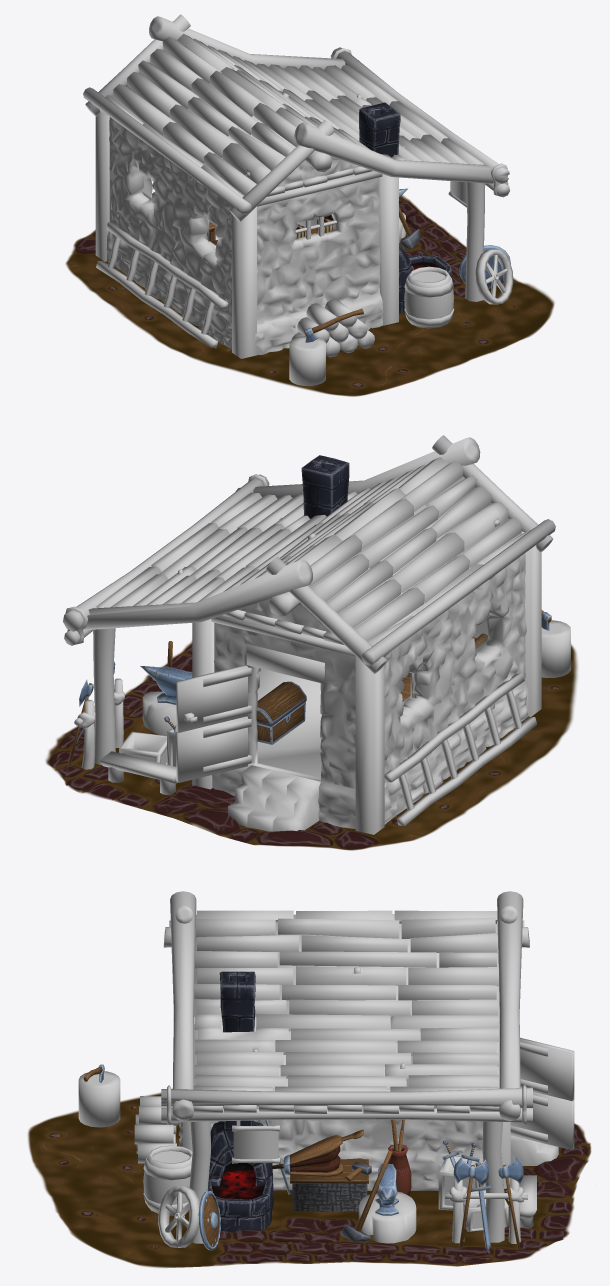
3 views of the same model, one above another, from view 1: azimuth 30°, elevation 25°; view 2: azimuth 150°, elevation 25°; view 3: azimuth 270°, elevation 25° (orthographic). The views are drawn at different scales.
Parts seen in each view (by area): view 1: Wall_low, Roof_low, Ground_high, RoofSupport_low, RoofSupport3_low, Forge_low, RoofSupport6_low, Ladder_low, RoofSupport9_low, Barrel_low, RoofSupport2_low, RoofSupport4_low (+6 smaller); view 2: Wall_low, Roof_low, Ground_high, RoofSupport_low, RoofSupport3_low, Stairs_low, Ladder_low, RoofSupport6_low, RoofSupport9_low, Door1_low, Door2_low, RoofSupport2_low (+13 smaller); view 3: Roof_low, Ground_high, Wall_low, RoofSupport3_low, Forge_low, RoofSupport4_low, RoofSupport2_low, RoofSupport5_low, Planks_low, Door1_low, StumpWoodcutter_low, WorkbenchStone_low (+21 smaller).
Boxes of the visible parts, x1,y1,x2,y2 form: Wall_low: (106, 47, 383, 354); Roof_low: (99, 33, 483, 197); Ground_high: (65, 195, 554, 396); RoofSupport_low: (95, 111, 398, 358); RoofSupport3_low: (149, 16, 493, 183); Forge_low: (359, 102, 452, 313); RoofSupport6_low: (85, 14, 334, 221); Ladder_low: (96, 222, 228, 348); RoofSupport9_low: (83, 87, 251, 214); Barrel_low: (404, 266, 454, 328); RoofSupport2_low: (465, 182, 485, 301); RoofSupport4_low: (330, 47, 509, 183); Wall_low: (212, 476, 528, 828); Roof_low: (96, 457, 530, 656); Ground_high: (45, 641, 577, 850); RoofSupport_low: (192, 545, 541, 834); RoofSupport3_low: (84, 437, 480, 630); Stairs_low: (228, 765, 320, 831); Ladder_low: (384, 673, 537, 825); RoofSupport6_low: (266, 435, 552, 673); RoofSupport9_low: (361, 519, 555, 665); Door1_low: (176, 665, 247, 732); Door2_low: (176, 716, 247, 782); RoofSupport2_low: (93, 628, 115, 764); Roof_low: (193, 910, 499, 1091); Ground_high: (28, 1092, 591, 1267); Wall_low: (178, 923, 499, 1190); RoofSupport3_low: (170, 891, 523, 1121); Forge_low: (207, 971, 273, 1232); RoofSupport4_low: (161, 1087, 532, 1107); RoofSupport2_low: (189, 1121, 504, 1243); RoofSupport5_low: (161, 1107, 532, 1122); Planks_low: (193, 1017, 499, 1113); Door1_low: (520, 1037, 574, 1100); StumpWoodcutter_low: (78, 1071, 120, 1127); WorkbenchStone_low: (292, 1183, 367, 1211).
Size of the model in its own units: 845 by 484 by 1011.
